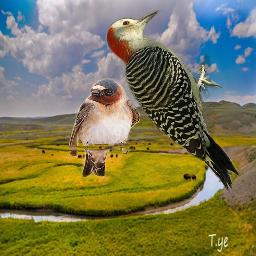Swallow: (69, 78, 140, 177)
Woodpecker: (102, 10, 241, 191)
